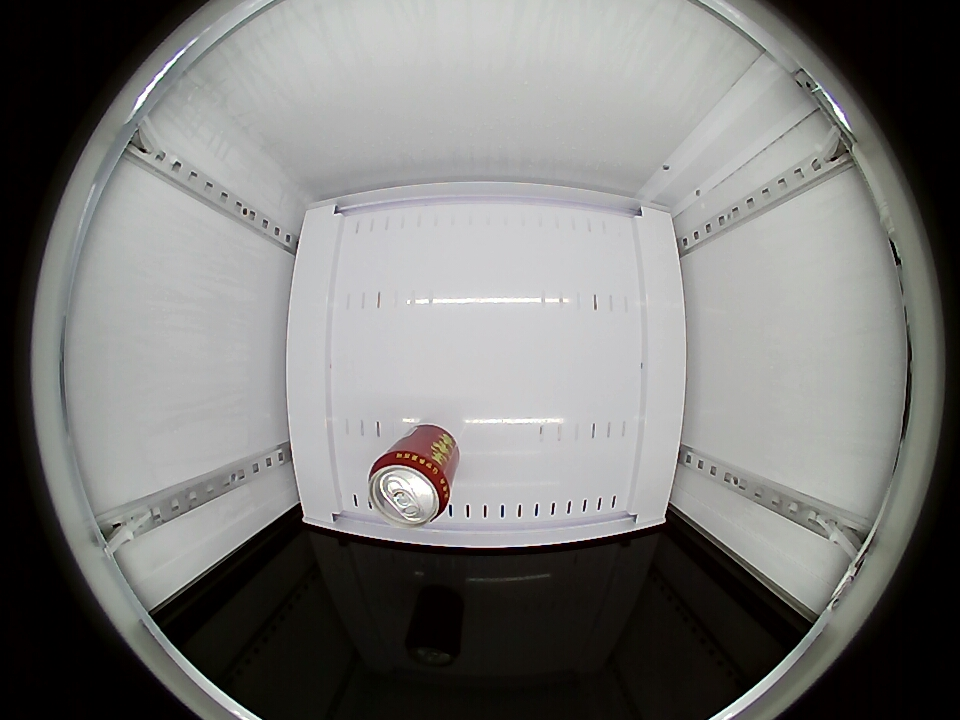wanglaoji-c: (368, 447, 453, 526)
